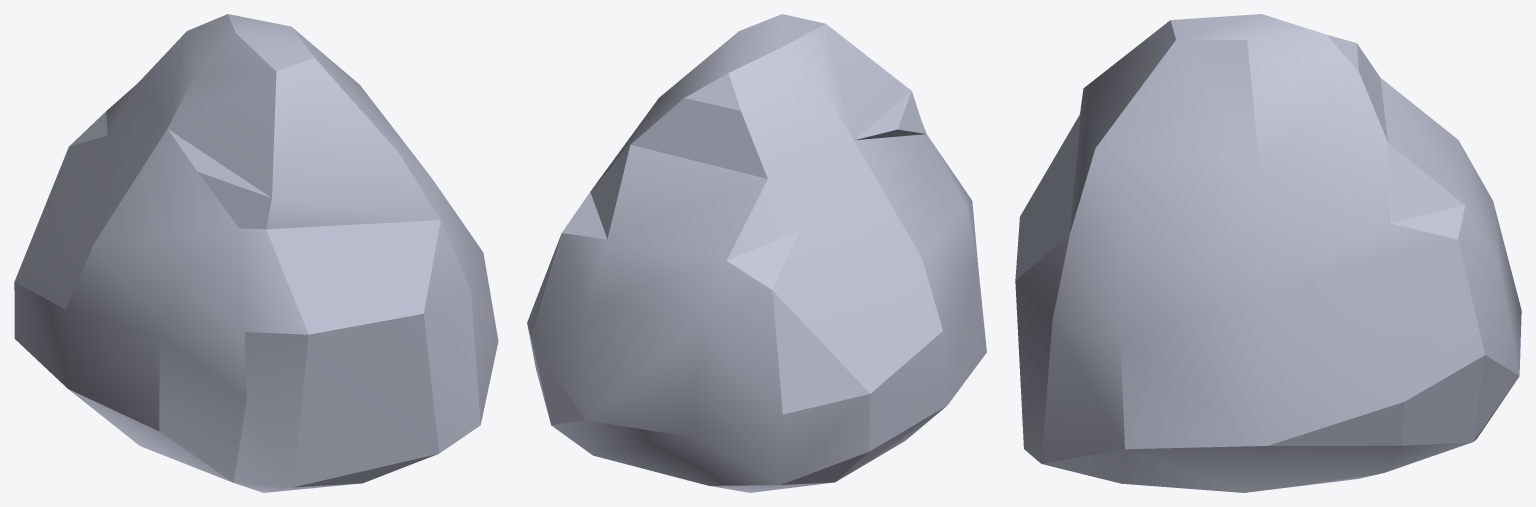
Rendered from stone_03.fbx.
3 renders of one model, left to right at view 1: azimuth 30°, elevation 25°; view 2: azimuth 150°, elevation 25°; view 3: azimuth 270°, elevation 25°, orthographic. The views are drawn at different scales.
Visible parts, largest first — view 1: Stone_03; view 2: Stone_03; view 3: Stone_03.
Part boxes in pixels (box(x1,y1,x2,y2)): Stone_03: box(14, 14, 498, 492); Stone_03: box(527, 14, 986, 492); Stone_03: box(1015, 14, 1521, 492).
Size of the model in its own units: 20.74 by 21.17 by 22.68.
